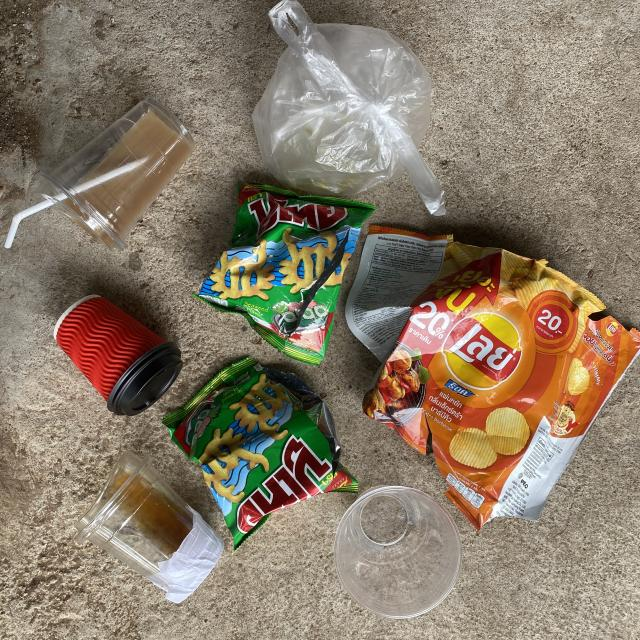Single-layer Plastic: (252, 0, 445, 215)
